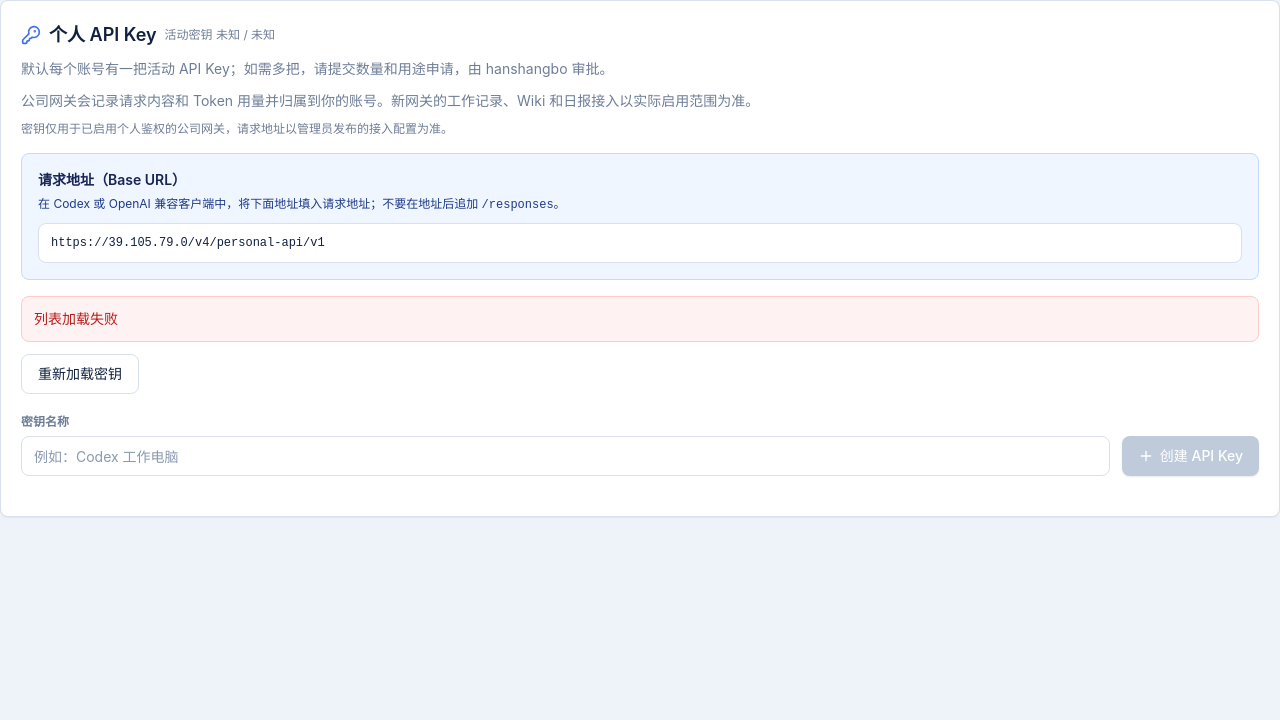
PersonalApiKeys › allows retrying a failed list request without creating keys
Expected: the message reads "列表加载失败", [34,310,118,327]
Click the button "重新加载密钥" at (80, 374), box [21,354,139,394]
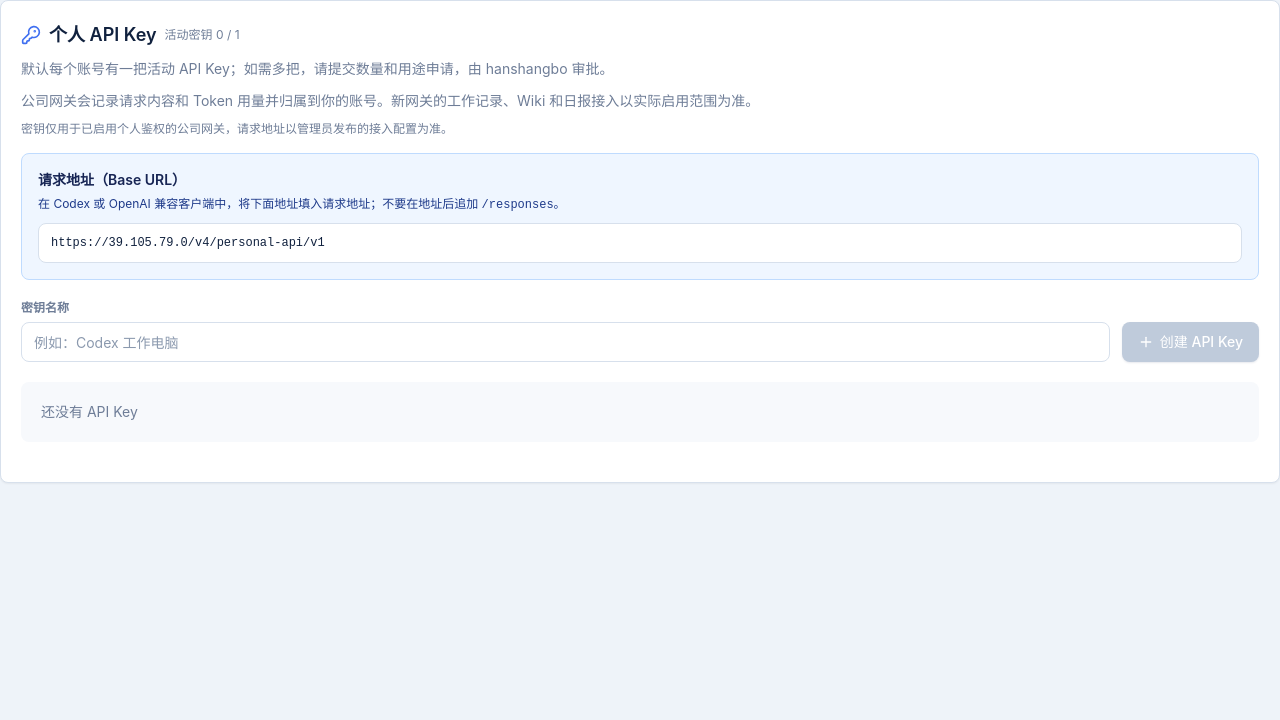
Expected: the text "还没有 API Key" is shown, [21,382,1259,442]
